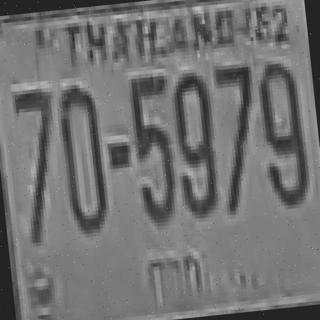N00: (55, 83, 108, 232)
N05: (128, 74, 178, 222), (128, 72, 172, 162)
N07: (212, 63, 259, 175), (11, 88, 60, 193), (11, 86, 58, 177), (212, 63, 256, 154)
N09: (253, 58, 308, 204), (168, 68, 219, 216)
P69: (140, 248, 210, 308)
